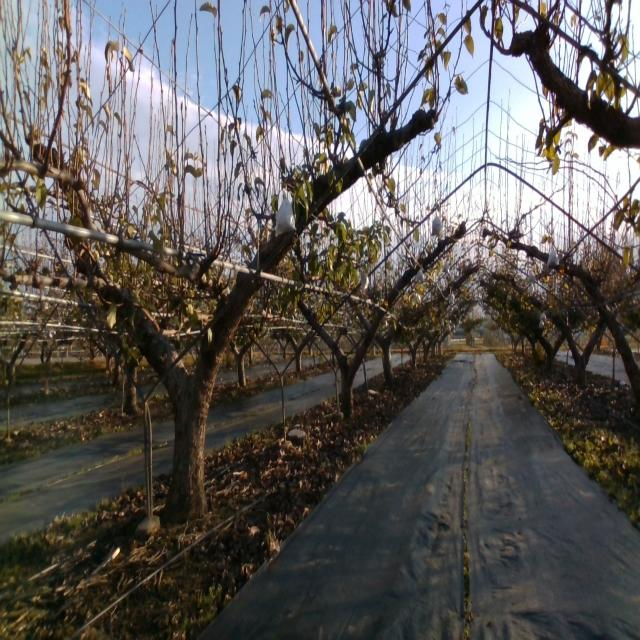pearbags: (274, 190, 296, 237), (431, 208, 444, 237), (546, 246, 560, 266)
